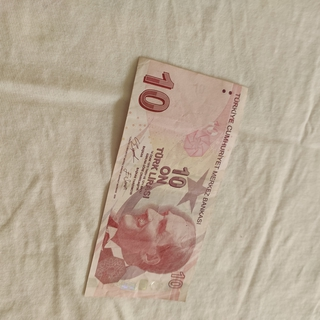10TLFront: (81, 55, 249, 302)
